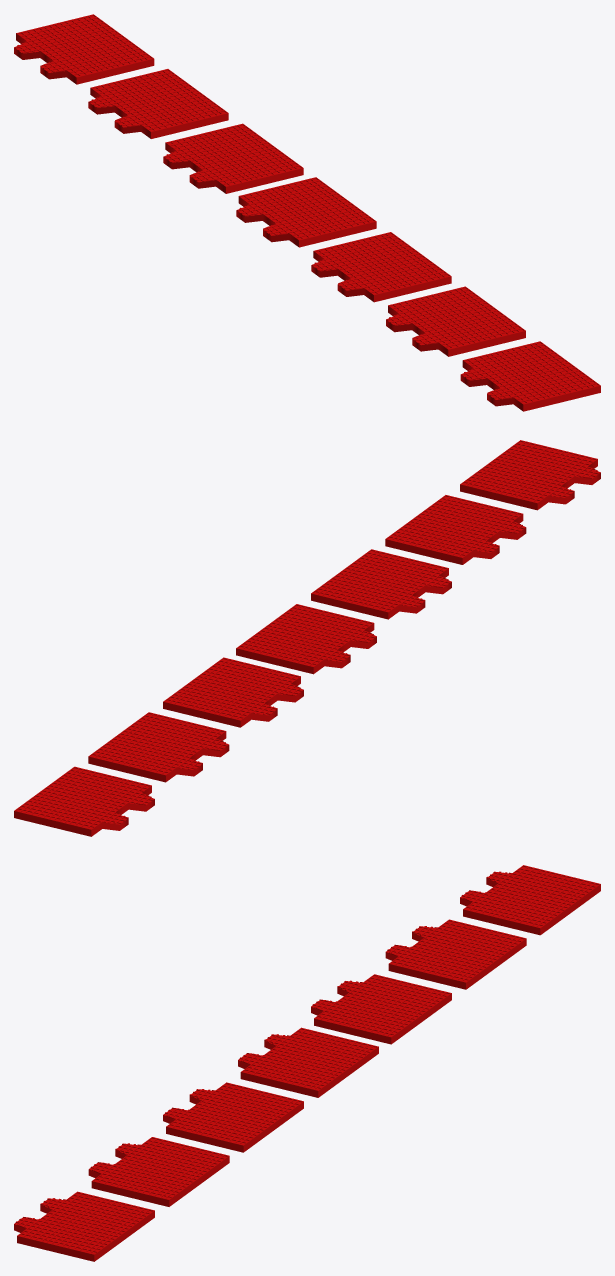
Rendered from door2.glb.
The picture shows the model from 3 angles, top to bottom: view 1: azimuth 30°, elevation 25°; view 2: azimuth 150°, elevation 25°; view 3: azimuth 330°, elevation 25°; orthographic projection.
Visible parts, largest first — view 1: <LWODefault>; view 2: <LWODefault>; view 3: <LWODefault>.
Boxes of the visible parts, x1,y1,x2,y2 form: <LWODefault>: (14,14,600,411); <LWODefault>: (14,440,600,836); <LWODefault>: (14,865,600,1261).
Bounding box in the file's own units: 12.2 × 0.9 × 116.
